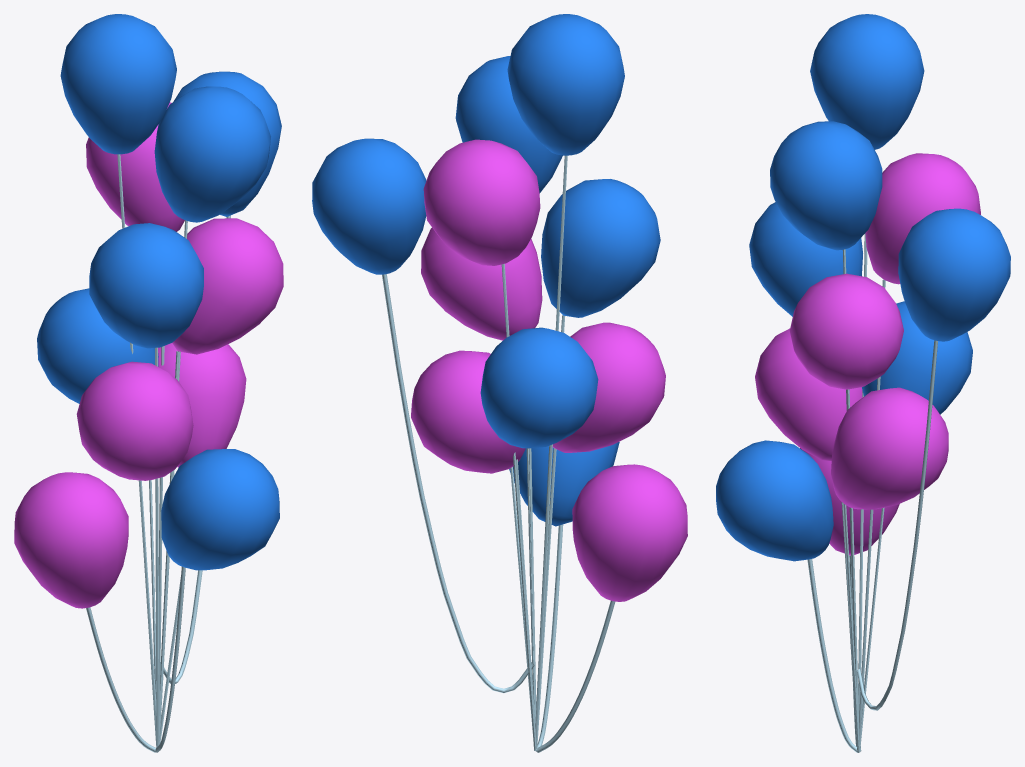
Rendered from d-moebel-komp-1.glb.
3 views of the same model, side by side, from view 1: azimuth 30°, elevation 25°; view 2: azimuth 150°, elevation 25°; view 3: azimuth 270°, elevation 25° (orthographic). The views are drawn at different scales.
Parts seen in each view (by area): view 1: Sphere; view 2: Sphere; view 3: Sphere.
Part boxes in pixels (x1,y1,x2,y2): Sphere: [14, 14, 283, 752]; Sphere: [312, 14, 687, 752]; Sphere: [716, 14, 1010, 752].
Size of the model in its own units: 1.13 by 2.61 by 0.9721.
1 material, 1 textured.
